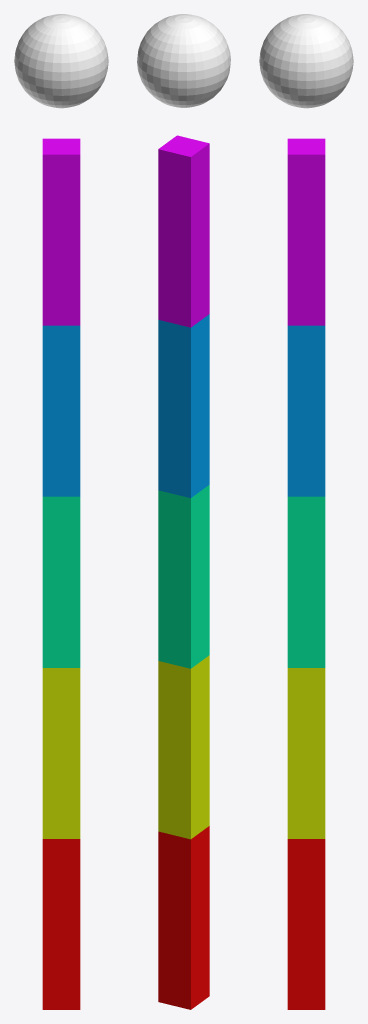
The model's file is CCDIKTest.glb.
3 views of the same model, side by side, from view 1: azimuth 90°, elevation 25°; view 2: azimuth 150°, elevation 25°; view 3: azimuth 270°, elevation 25° (orthographic).
Parts seen in each view (by area): view 1: Link.004, Target, Link.003, Link.002, Link.001, Link.000; view 2: Link.004, Link.003, Link.001, Link.002, Link.000, Target; view 3: Link.004, Target, Link.003, Link.002, Link.001, Link.000.
Part boxes in pixels (x1,y1,x2,y2): Link.004: [42, 138, 80, 325]; Target: [14, 14, 108, 108]; Link.003: [42, 325, 80, 496]; Link.002: [42, 496, 80, 667]; Link.001: [42, 668, 80, 838]; Link.000: [42, 839, 80, 1009]; Link.004: [158, 135, 209, 327]; Link.003: [158, 314, 209, 498]; Link.001: [158, 655, 209, 839]; Link.002: [158, 485, 209, 668]; Link.000: [158, 826, 209, 1009]; Target: [137, 14, 230, 107]; Link.004: [287, 138, 325, 325]; Target: [259, 14, 353, 108]; Link.003: [287, 325, 325, 496]; Link.002: [287, 496, 325, 667]; Link.001: [287, 668, 325, 838]; Link.000: [287, 839, 325, 1009].
Size of the model in its own units: 0.5 by 5.75 by 0.5.
